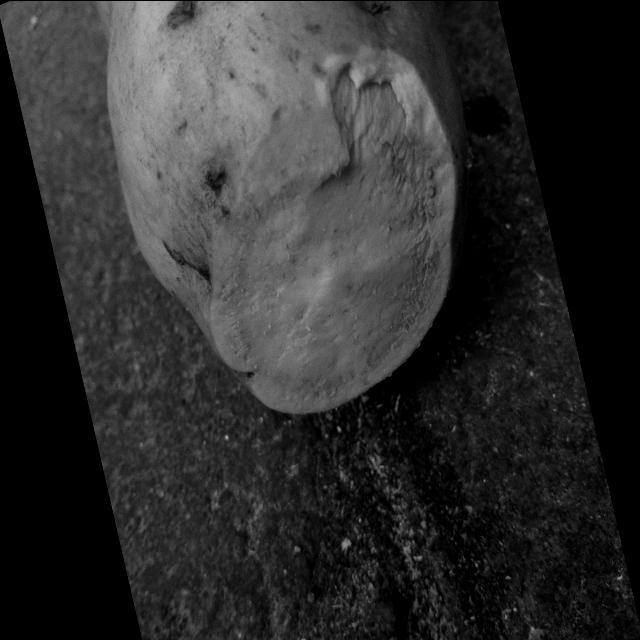Healthy Sweet Potato: (212, 47, 458, 412)
